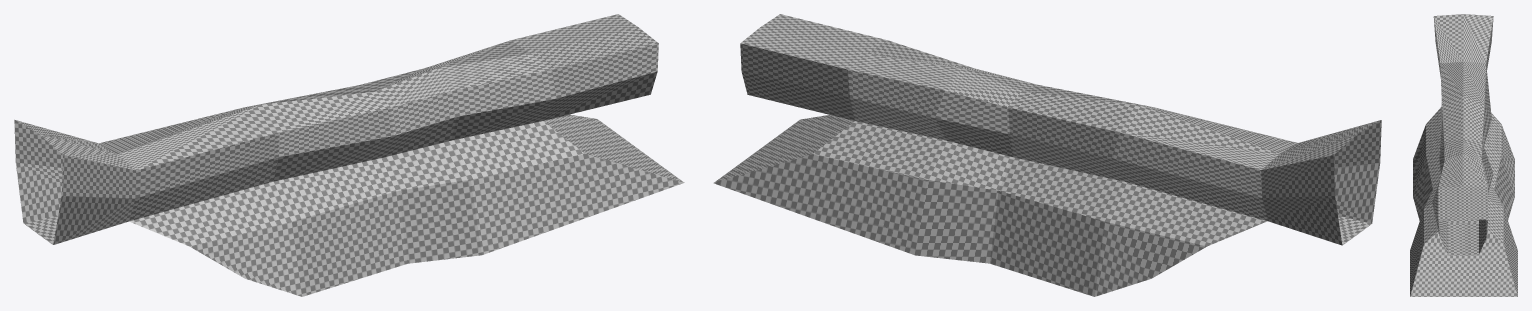
File: prv1o-7.obj
The picture shows the model from 3 angles, left to right: view 1: azimuth 30°, elevation 25°; view 2: azimuth 150°, elevation 25°; view 3: azimuth 270°, elevation 25°; orthographic projection. The views are drawn at different scales.
Visible parts, largest first — view 1: Cube.005; view 2: Cube.005; view 3: Cube.005.
Boxes of the visible parts, left/top/right/bottom form: Cube.005: left=14, top=14, right=684, bottom=296; Cube.005: left=713, top=14, right=1381, bottom=296; Cube.005: left=1410, top=14, right=1517, bottom=296.
Bounding box in the file's own units: 193 × 57.14 × 48.27.
